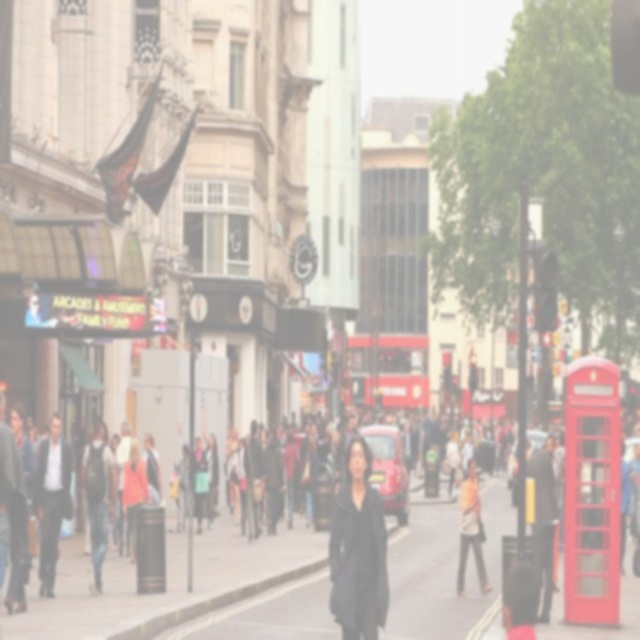pessoa: (327, 432, 390, 639), (30, 408, 75, 600), (400, 406, 520, 478), (524, 436, 562, 628), (78, 411, 117, 598), (242, 403, 401, 448), (456, 454, 494, 598), (120, 436, 152, 568), (0, 386, 19, 598), (241, 416, 265, 546), (500, 564, 541, 639), (114, 418, 134, 558), (262, 423, 285, 538), (188, 434, 210, 536), (280, 429, 301, 531), (80, 426, 96, 558), (199, 430, 220, 530), (169, 442, 190, 534), (106, 432, 122, 552), (619, 437, 632, 575), (141, 430, 163, 502), (440, 428, 461, 501), (224, 426, 242, 511), (546, 432, 564, 515), (228, 437, 244, 528), (628, 441, 640, 547), (236, 438, 248, 538), (305, 438, 318, 530), (68, 414, 85, 482), (22, 412, 50, 447), (632, 474, 640, 584), (402, 420, 415, 486), (551, 422, 565, 478), (460, 430, 474, 480), (622, 407, 640, 440), (101, 420, 110, 446), (226, 426, 230, 438)
